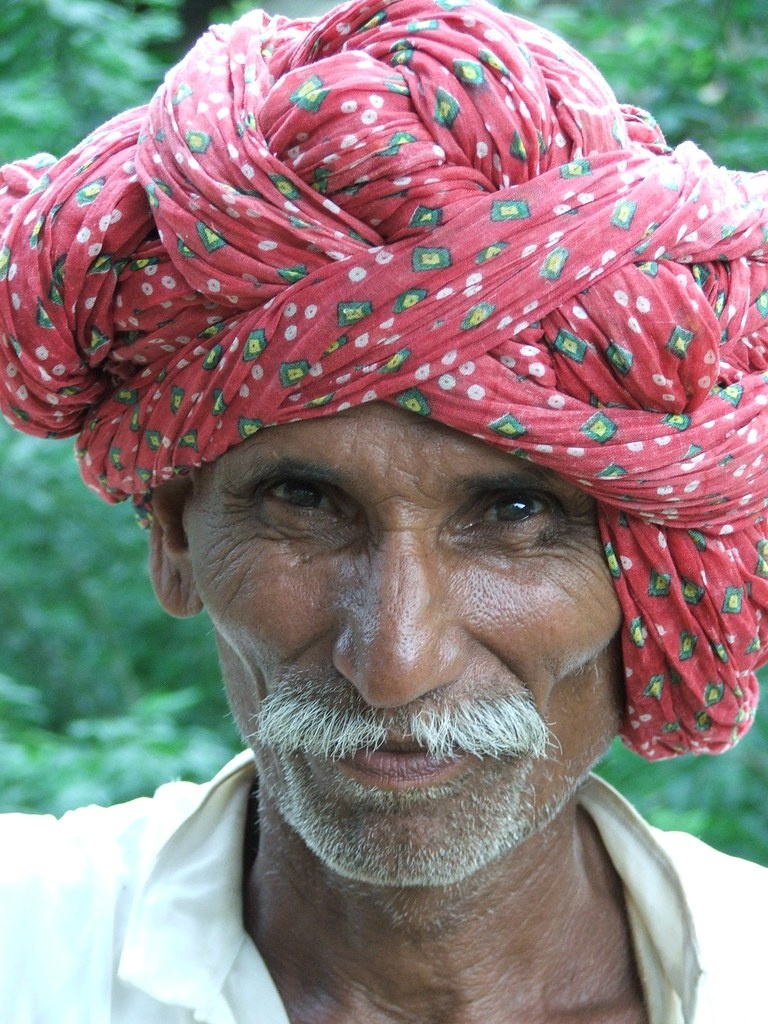without_mask: (163, 418, 673, 892)
